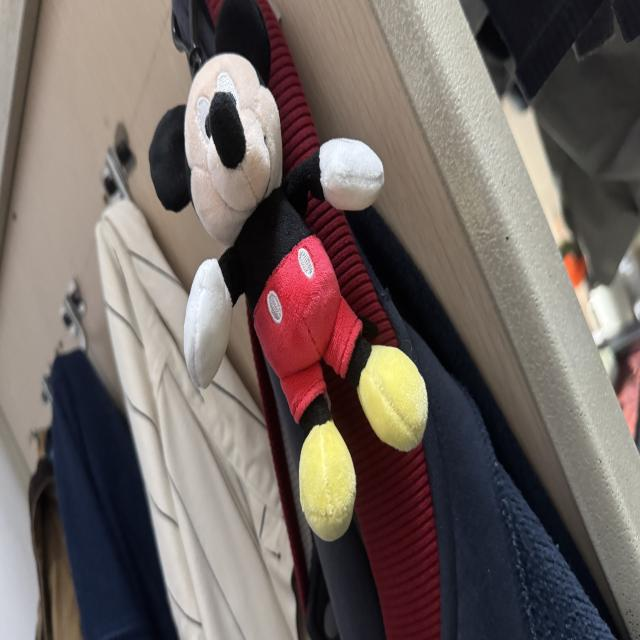mickey: (150, 0, 427, 540)
